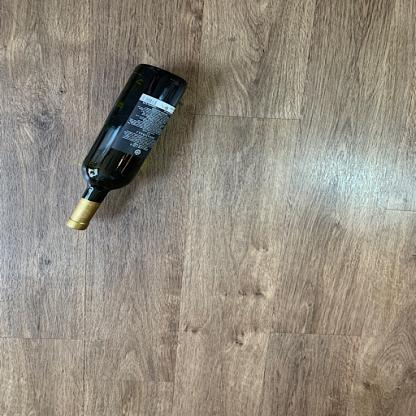trash: (65, 63, 190, 233)
